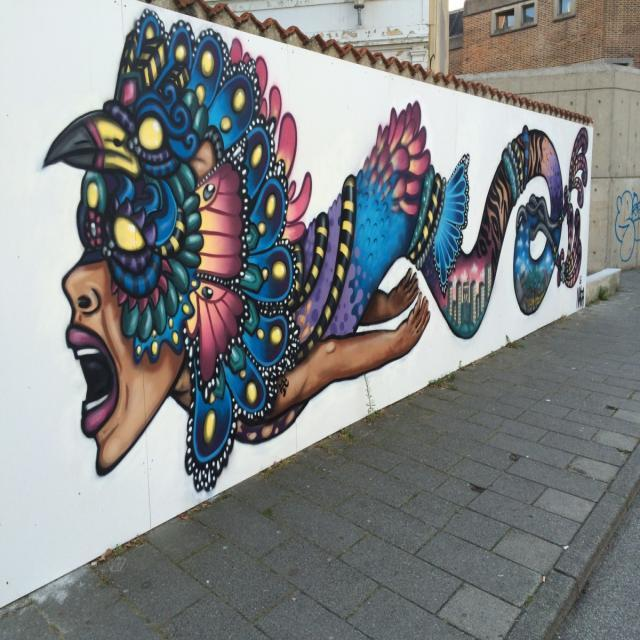-: (43, 10, 590, 498), (613, 186, 640, 266)
